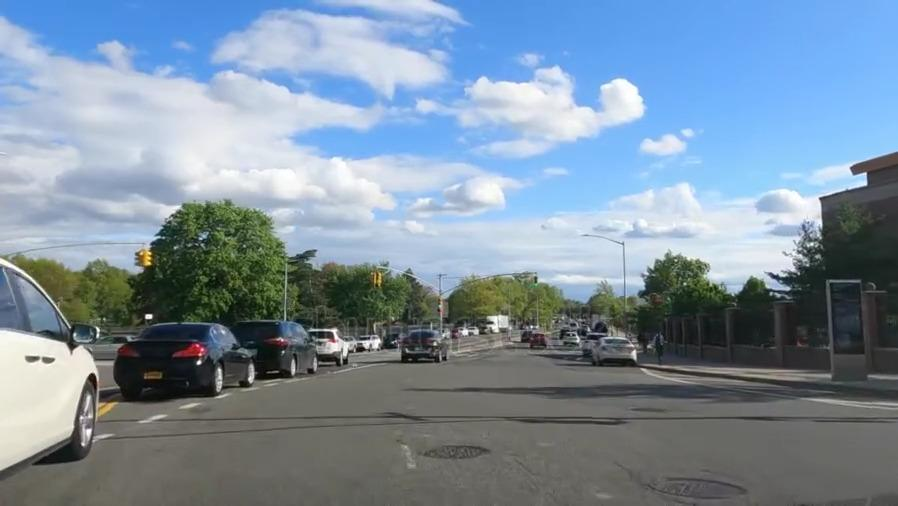car: (0, 255, 102, 485), (117, 327, 258, 399), (238, 318, 319, 377), (309, 323, 351, 366), (402, 329, 452, 363), (594, 335, 638, 364), (90, 332, 132, 355), (357, 332, 381, 355), (383, 332, 403, 348), (583, 331, 596, 354), (564, 331, 580, 348), (530, 334, 547, 347), (523, 330, 532, 341)
manhole: (652, 469, 750, 506), (417, 440, 495, 467)
person: (652, 331, 667, 367)
pothole: (629, 401, 671, 421)
traffic light: (129, 245, 155, 271), (368, 267, 383, 290), (435, 294, 445, 317), (531, 273, 541, 291)
wheel: (69, 373, 99, 459), (204, 361, 230, 397), (238, 355, 257, 389)
